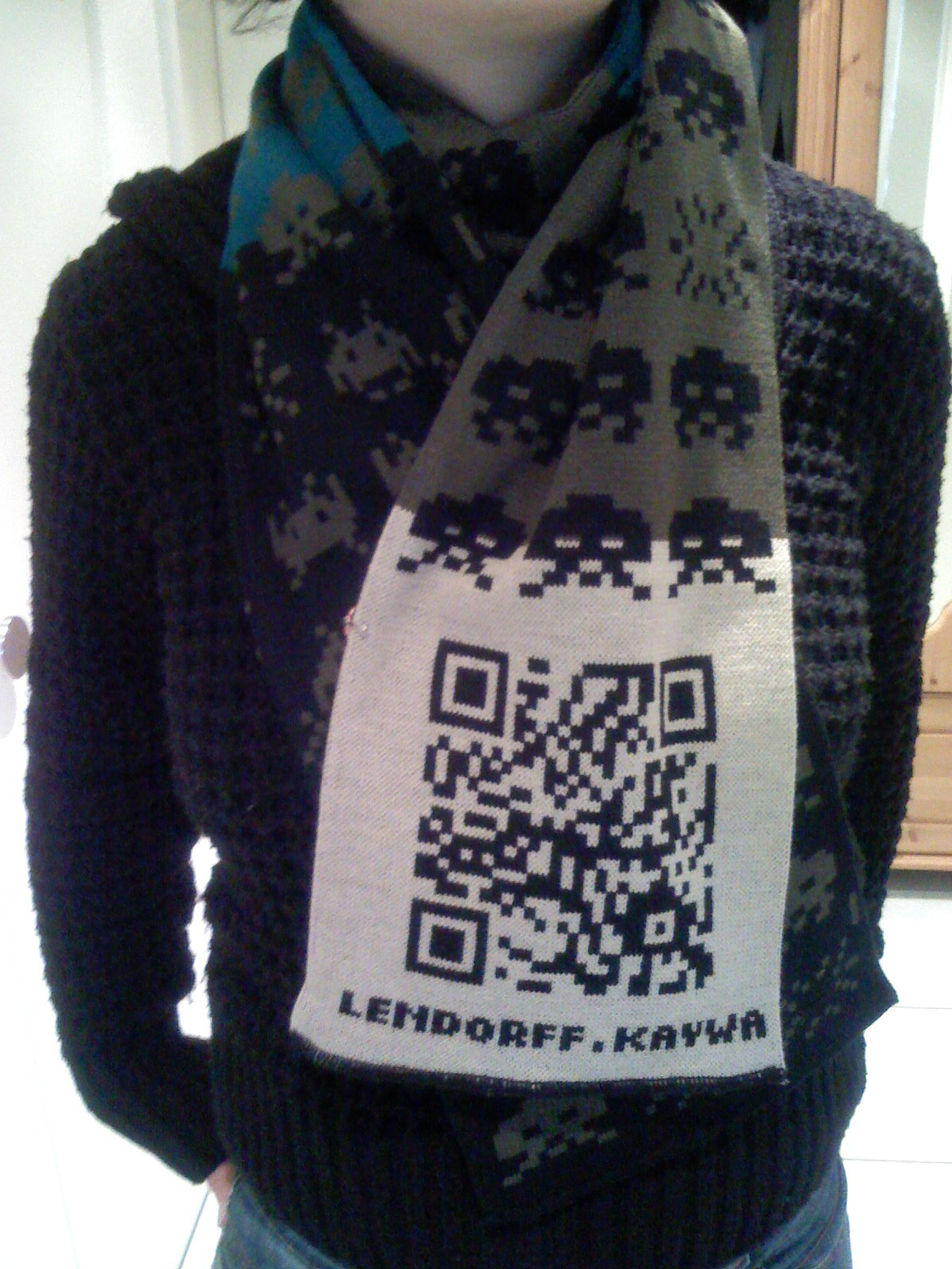QR-CODE: (403, 637, 716, 997)
